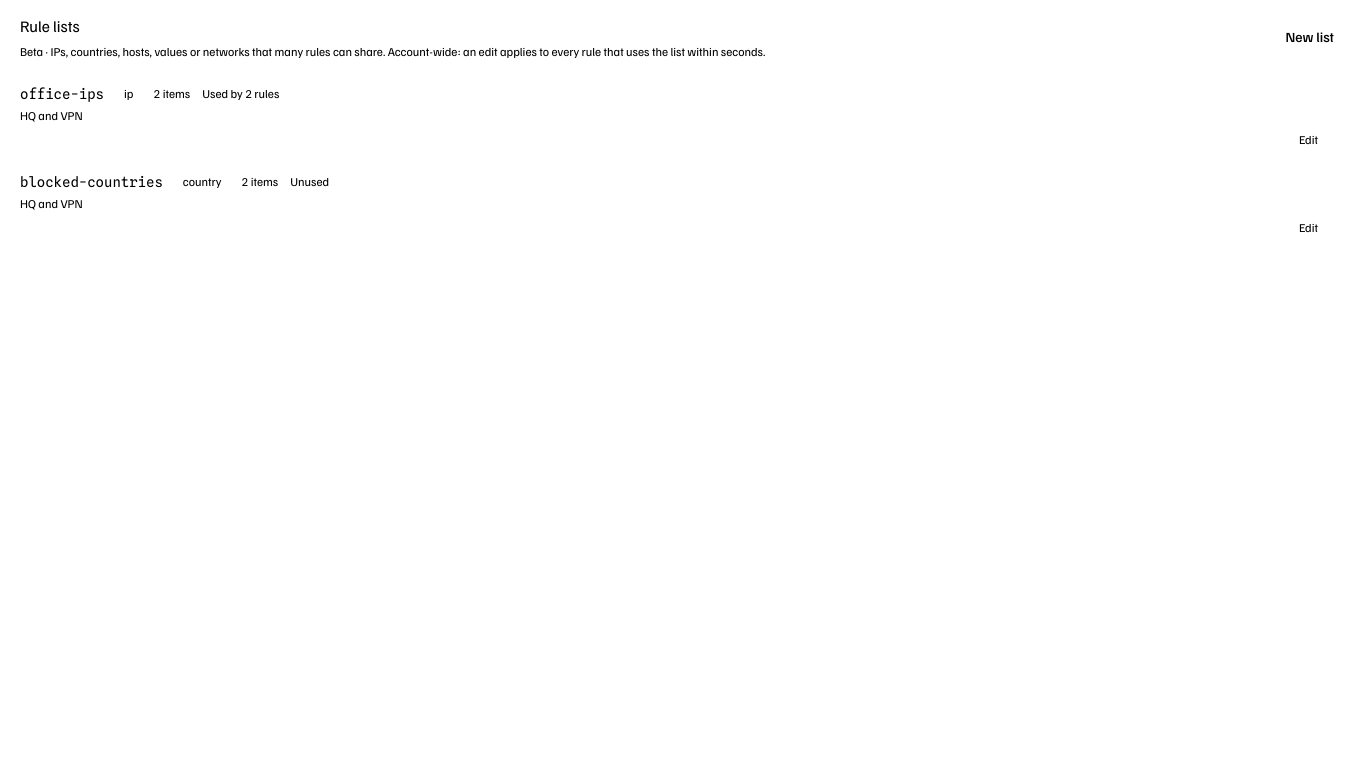
it: EdgeRuleLists › refuses a name apid would refuse, before the round trip
Click the button "New list" at (1300, 37), box top-left (1253, 21), bottom-right (1346, 53)
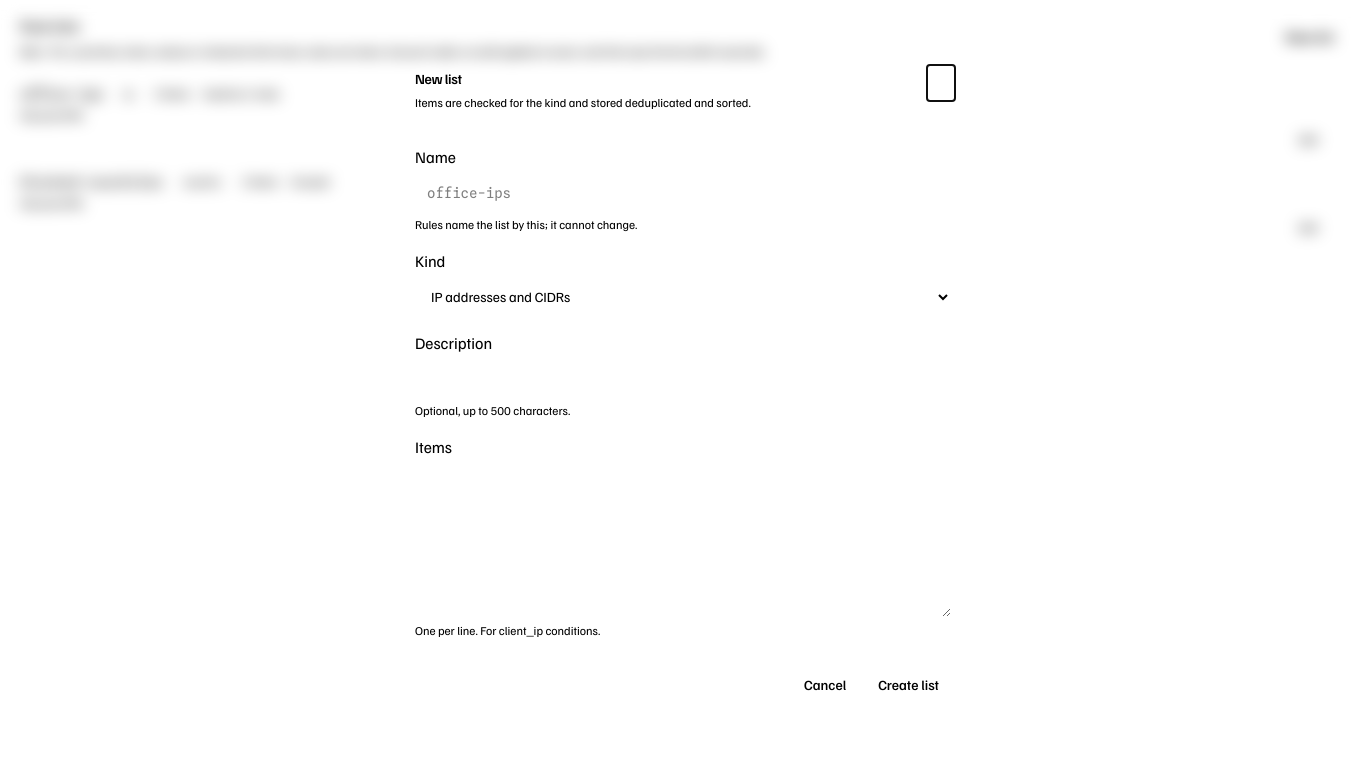
Type "Office IPs" into the field labelled "Name Rules name the list by this; it cannot change." at (683, 192), box top-left (415, 174), bottom-right (951, 210)
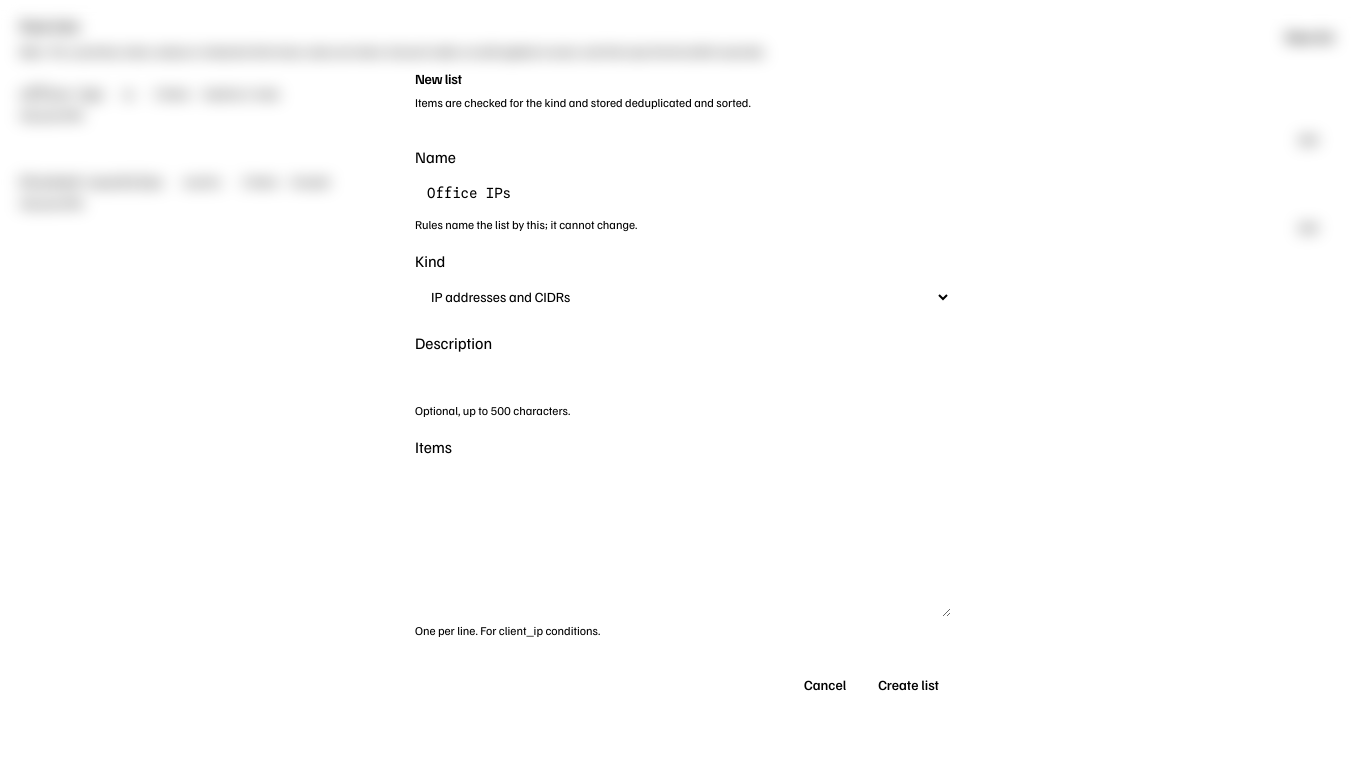
Click the button "Create list" at (909, 685), box top-left (866, 669), bottom-right (951, 701)
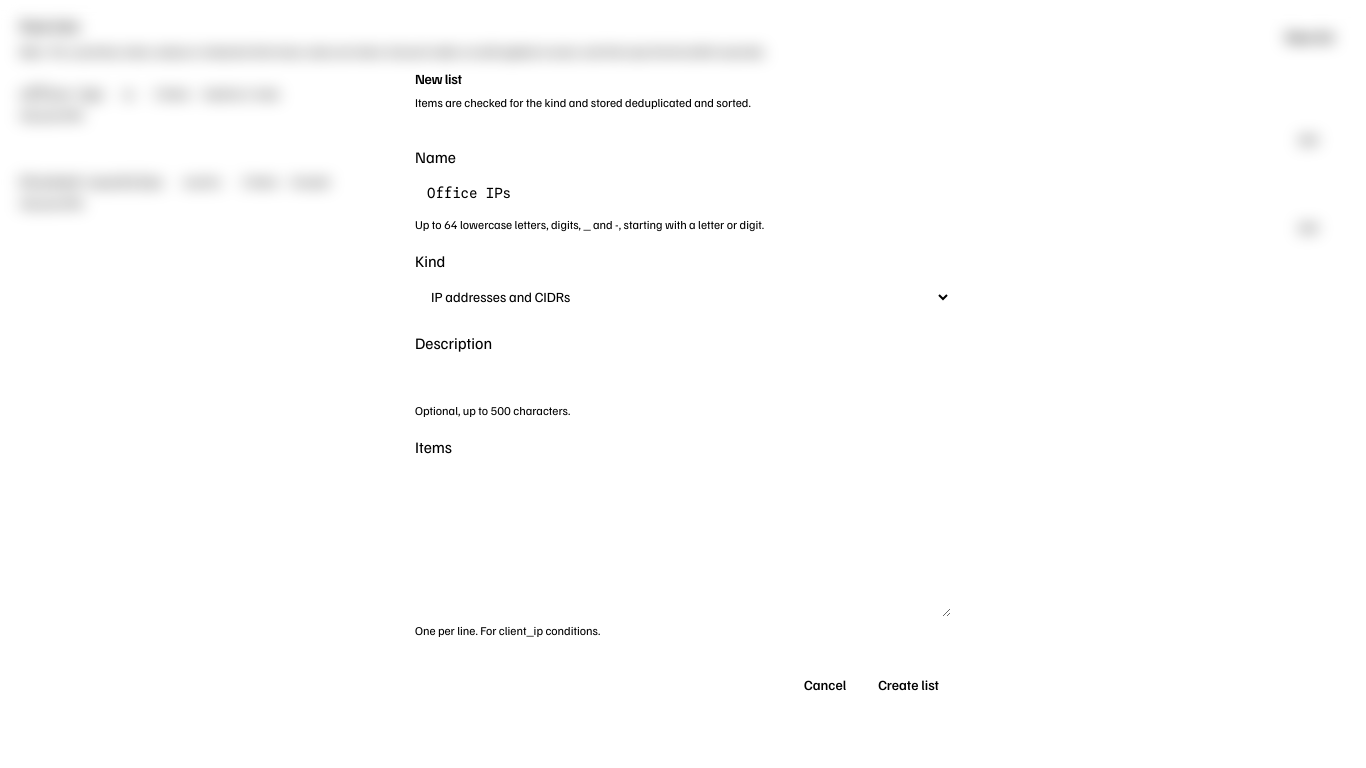
Result: the text "Up to 64 lowercase letters, digits, _ and -, starting with a letter or digit." is shown at top-left (415, 216), bottom-right (764, 232)
